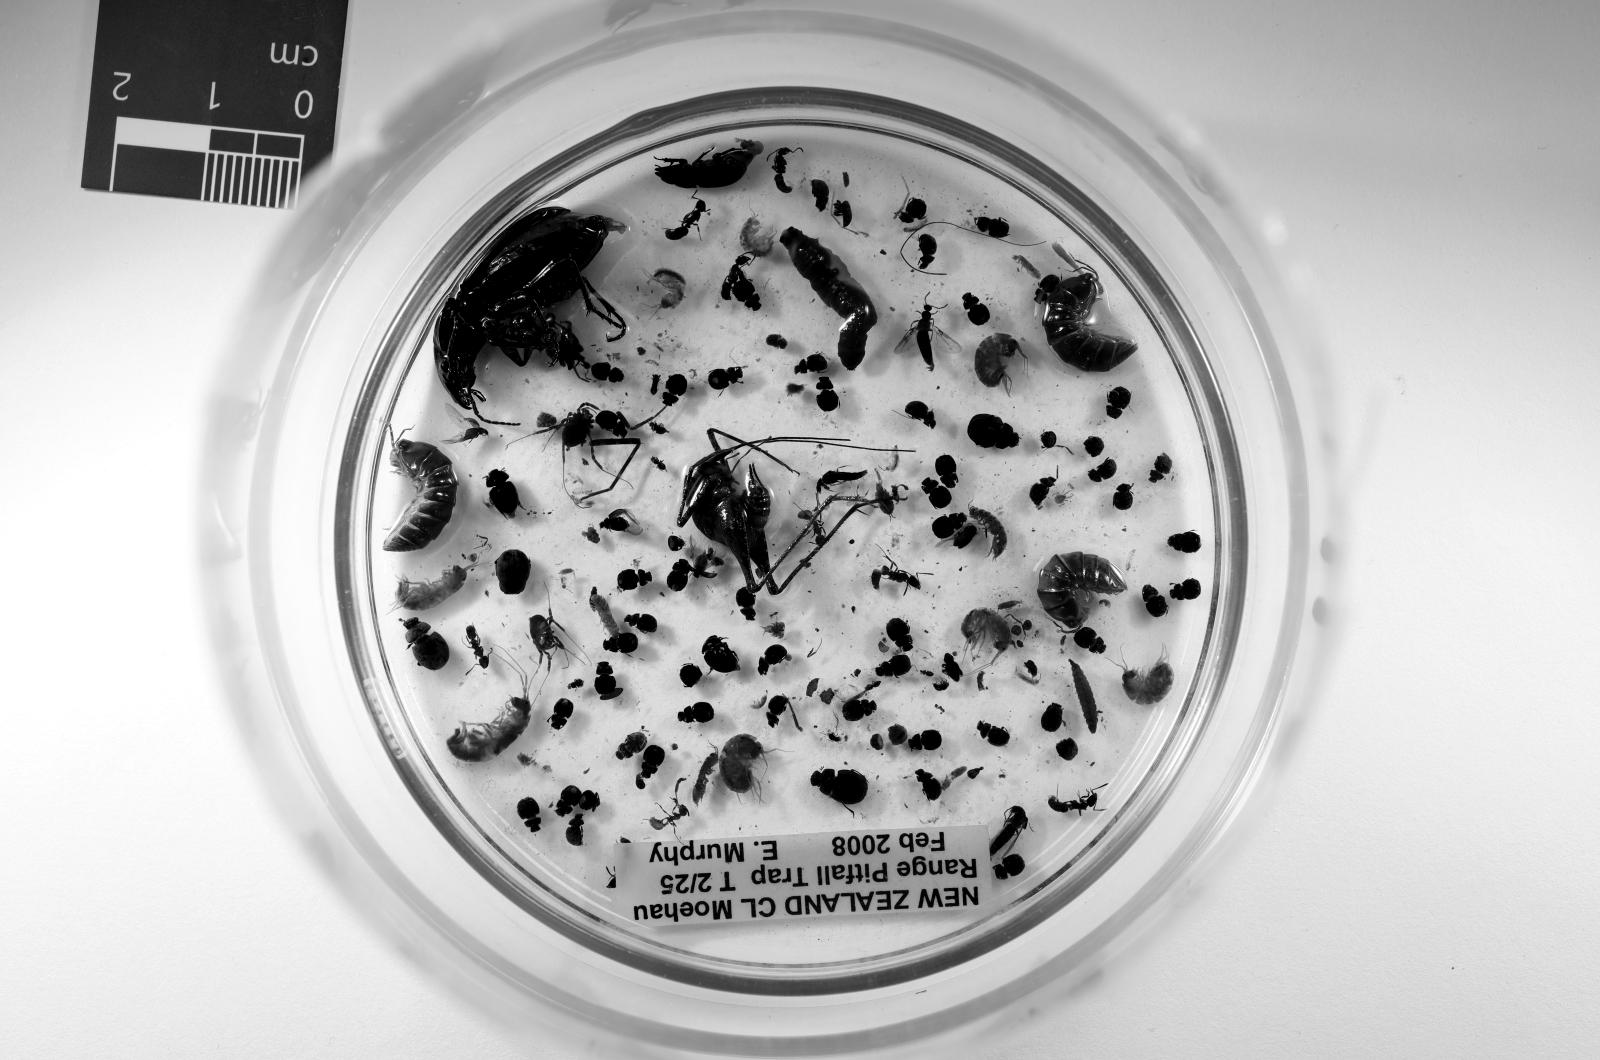acari: (1053, 488, 1072, 506), (634, 773, 647, 789)
amphipoda: (447, 665, 531, 761), (397, 565, 469, 612), (959, 609, 1016, 661), (975, 332, 1022, 394), (719, 736, 766, 795), (1122, 658, 1172, 705), (738, 217, 775, 258), (653, 267, 688, 307)
carabidae: (434, 208, 625, 410)
coleoptera: (894, 304, 959, 370), (656, 149, 750, 189), (809, 767, 869, 811), (403, 618, 450, 671), (966, 413, 1019, 450), (484, 469, 519, 519), (494, 550, 531, 593), (703, 637, 741, 674), (816, 469, 866, 494), (594, 410, 631, 438), (600, 509, 641, 534), (759, 643, 791, 674), (962, 292, 991, 326), (931, 512, 966, 540), (903, 401, 938, 429), (616, 730, 647, 761), (922, 478, 953, 509), (916, 767, 944, 801), (1141, 584, 1169, 618), (594, 661, 619, 699), (706, 366, 744, 391), (875, 652, 912, 677), (731, 279, 759, 311), (662, 373, 688, 407), (603, 630, 638, 655), (553, 786, 581, 817), (547, 699, 575, 730), (1028, 475, 1056, 506), (897, 196, 928, 224), (641, 745, 666, 779), (516, 798, 541, 832), (666, 559, 691, 593), (1106, 385, 1131, 419), (678, 702, 716, 724), (888, 618, 912, 652), (616, 568, 653, 590), (816, 376, 838, 413), (841, 699, 878, 720), (994, 854, 1025, 879), (978, 720, 1009, 745), (766, 696, 791, 727), (1075, 627, 1106, 652), (909, 730, 944, 752), (934, 453, 956, 488), (625, 612, 659, 634), (734, 587, 756, 621), (794, 354, 828, 376), (975, 217, 1009, 239), (1169, 578, 1203, 599), (456, 419, 488, 441), (919, 233, 938, 270), (691, 550, 716, 578), (1034, 273, 1059, 301), (1169, 531, 1200, 553), (809, 180, 831, 211), (1041, 702, 1062, 733), (591, 363, 625, 382), (953, 525, 978, 550), (1150, 453, 1172, 481), (831, 199, 853, 227), (566, 814, 584, 848), (1088, 460, 1116, 481), (1112, 484, 1134, 509)
collembola: (1012, 255, 1041, 279), (884, 447, 900, 472), (1016, 668, 1038, 686), (997, 599, 1025, 612), (750, 693, 769, 711)
diptera: (647, 419, 666, 435), (931, 680, 950, 693), (650, 457, 666, 472), (569, 680, 584, 689), (828, 733, 841, 742)
formicidae: (666, 199, 709, 239), (872, 559, 922, 590), (1047, 789, 1100, 814), (722, 255, 750, 301), (466, 624, 491, 668), (650, 801, 688, 829), (772, 146, 794, 193)
isopoda: (1044, 267, 1138, 373), (384, 438, 459, 553), (1038, 553, 1125, 630), (969, 506, 1006, 559), (691, 752, 719, 804), (591, 593, 619, 637), (875, 481, 894, 516)
opiliones: (538, 404, 597, 463), (528, 612, 569, 671)
orthoptera: (678, 429, 812, 596)
